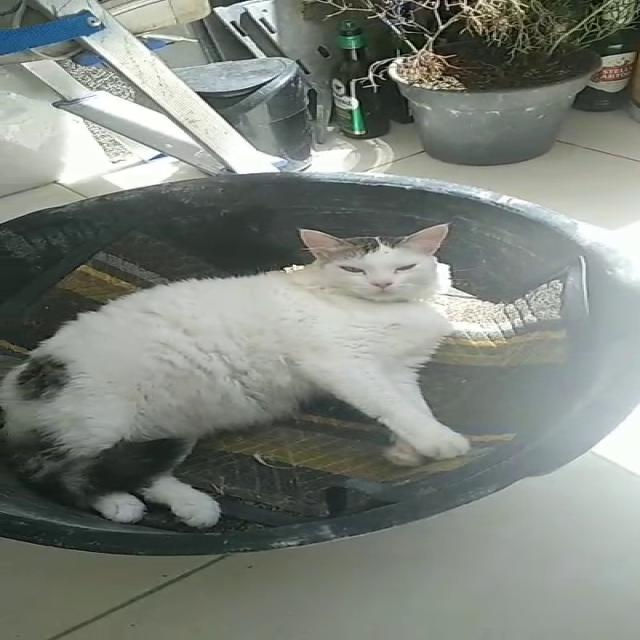Simba: (23, 208, 510, 544)
